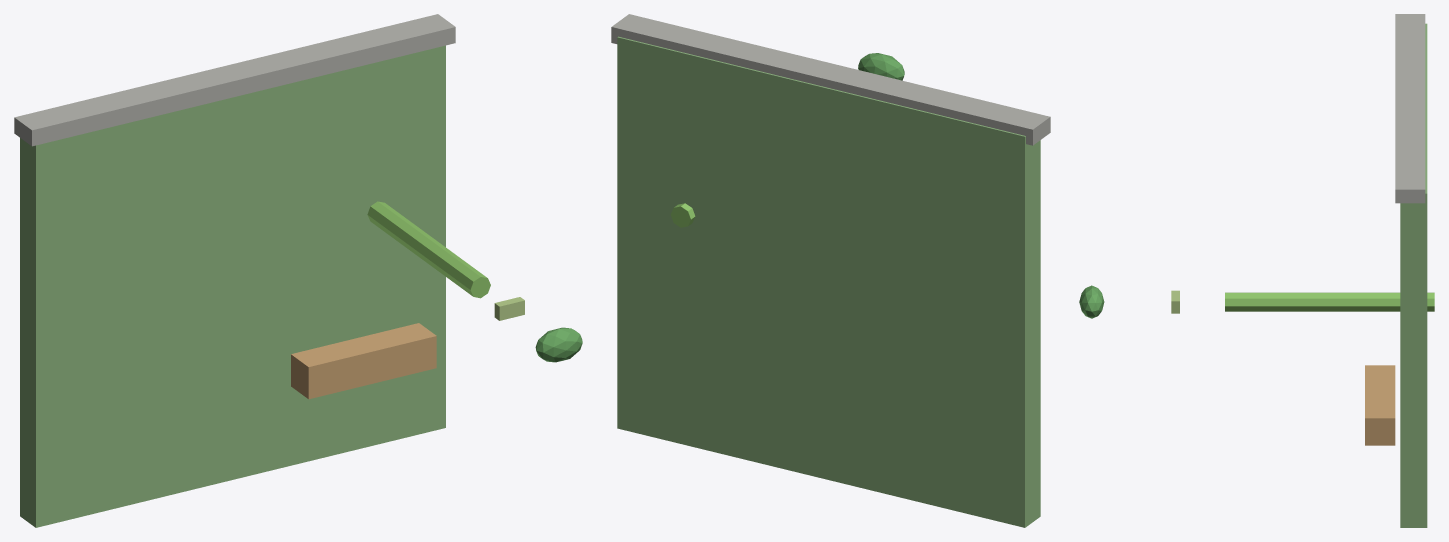
The model's file is 11_RungTre.glb.
3 renders of one model, left to right at view 1: azimuth 30°, elevation 25°; view 2: azimuth 150°, elevation 25°; view 3: azimuth 270°, elevation 25°, orthographic. The views are drawn at different scales.
Parts seen in each view (by area): view 1: base, edge, log, bamboo, leaf; view 2: base, edge, leaf; view 3: base, edge, bamboo, log, leaf.
Boxes of the visible parts, box(x1,y1,x2,y2) form: base: box(20, 45, 445, 527); edge: box(14, 14, 455, 146); log: box(291, 323, 436, 399); bamboo: box(367, 201, 490, 298); leaf: box(535, 327, 582, 362); base: box(617, 36, 1040, 527); edge: box(611, 14, 1050, 145); leaf: box(858, 53, 904, 80); base: box(1400, 23, 1427, 527); edge: box(1395, 14, 1425, 203); bamboo: box(1225, 292, 1434, 311); log: box(1365, 365, 1395, 445); leaf: box(1079, 285, 1104, 318).
Bounding box in the file's own units: 2.48 × 2.25 × 2.12.
